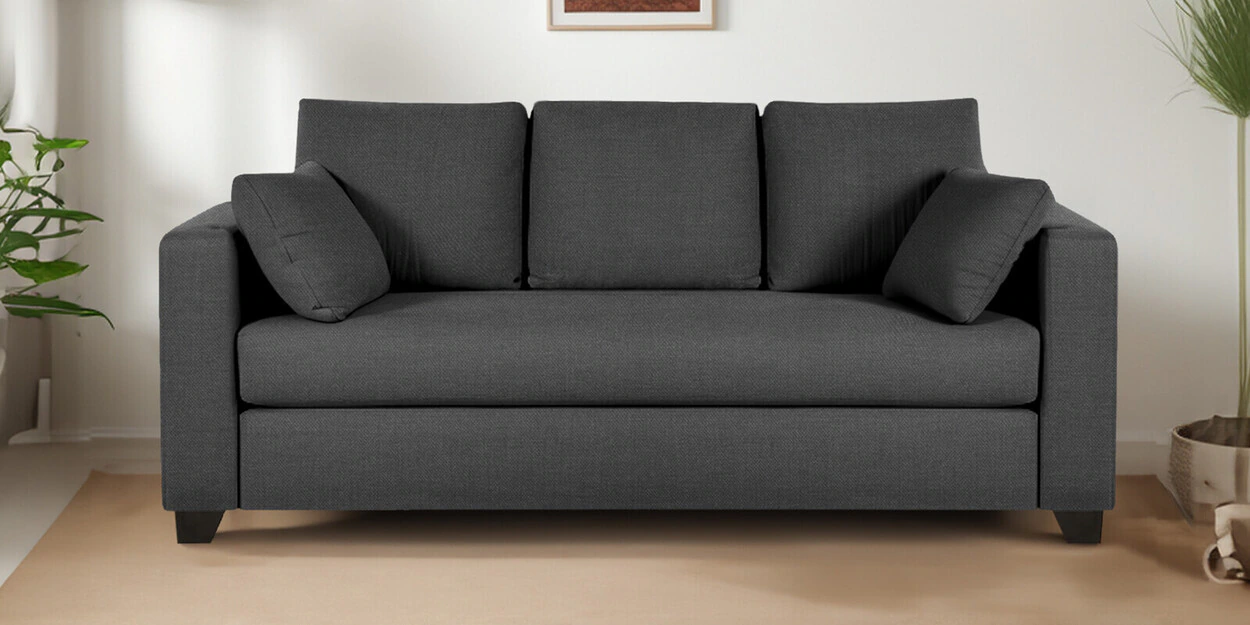3seatersofa: (160, 99, 1116, 543)
backrest: (297, 98, 984, 291)
base: (240, 409, 1036, 509)
leftarmrest: (1037, 206, 1116, 513)
leg: (1055, 510, 1102, 544), (175, 510, 223, 543)
pillow: (883, 168, 1054, 322), (233, 162, 389, 322)
rightarmrest: (160, 205, 240, 510)
seat: (235, 291, 1041, 409)
